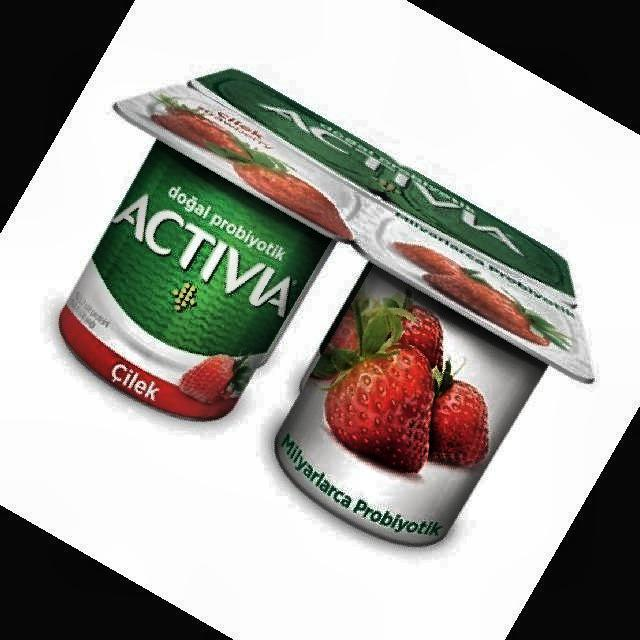plastic: (60, 70, 591, 544)
